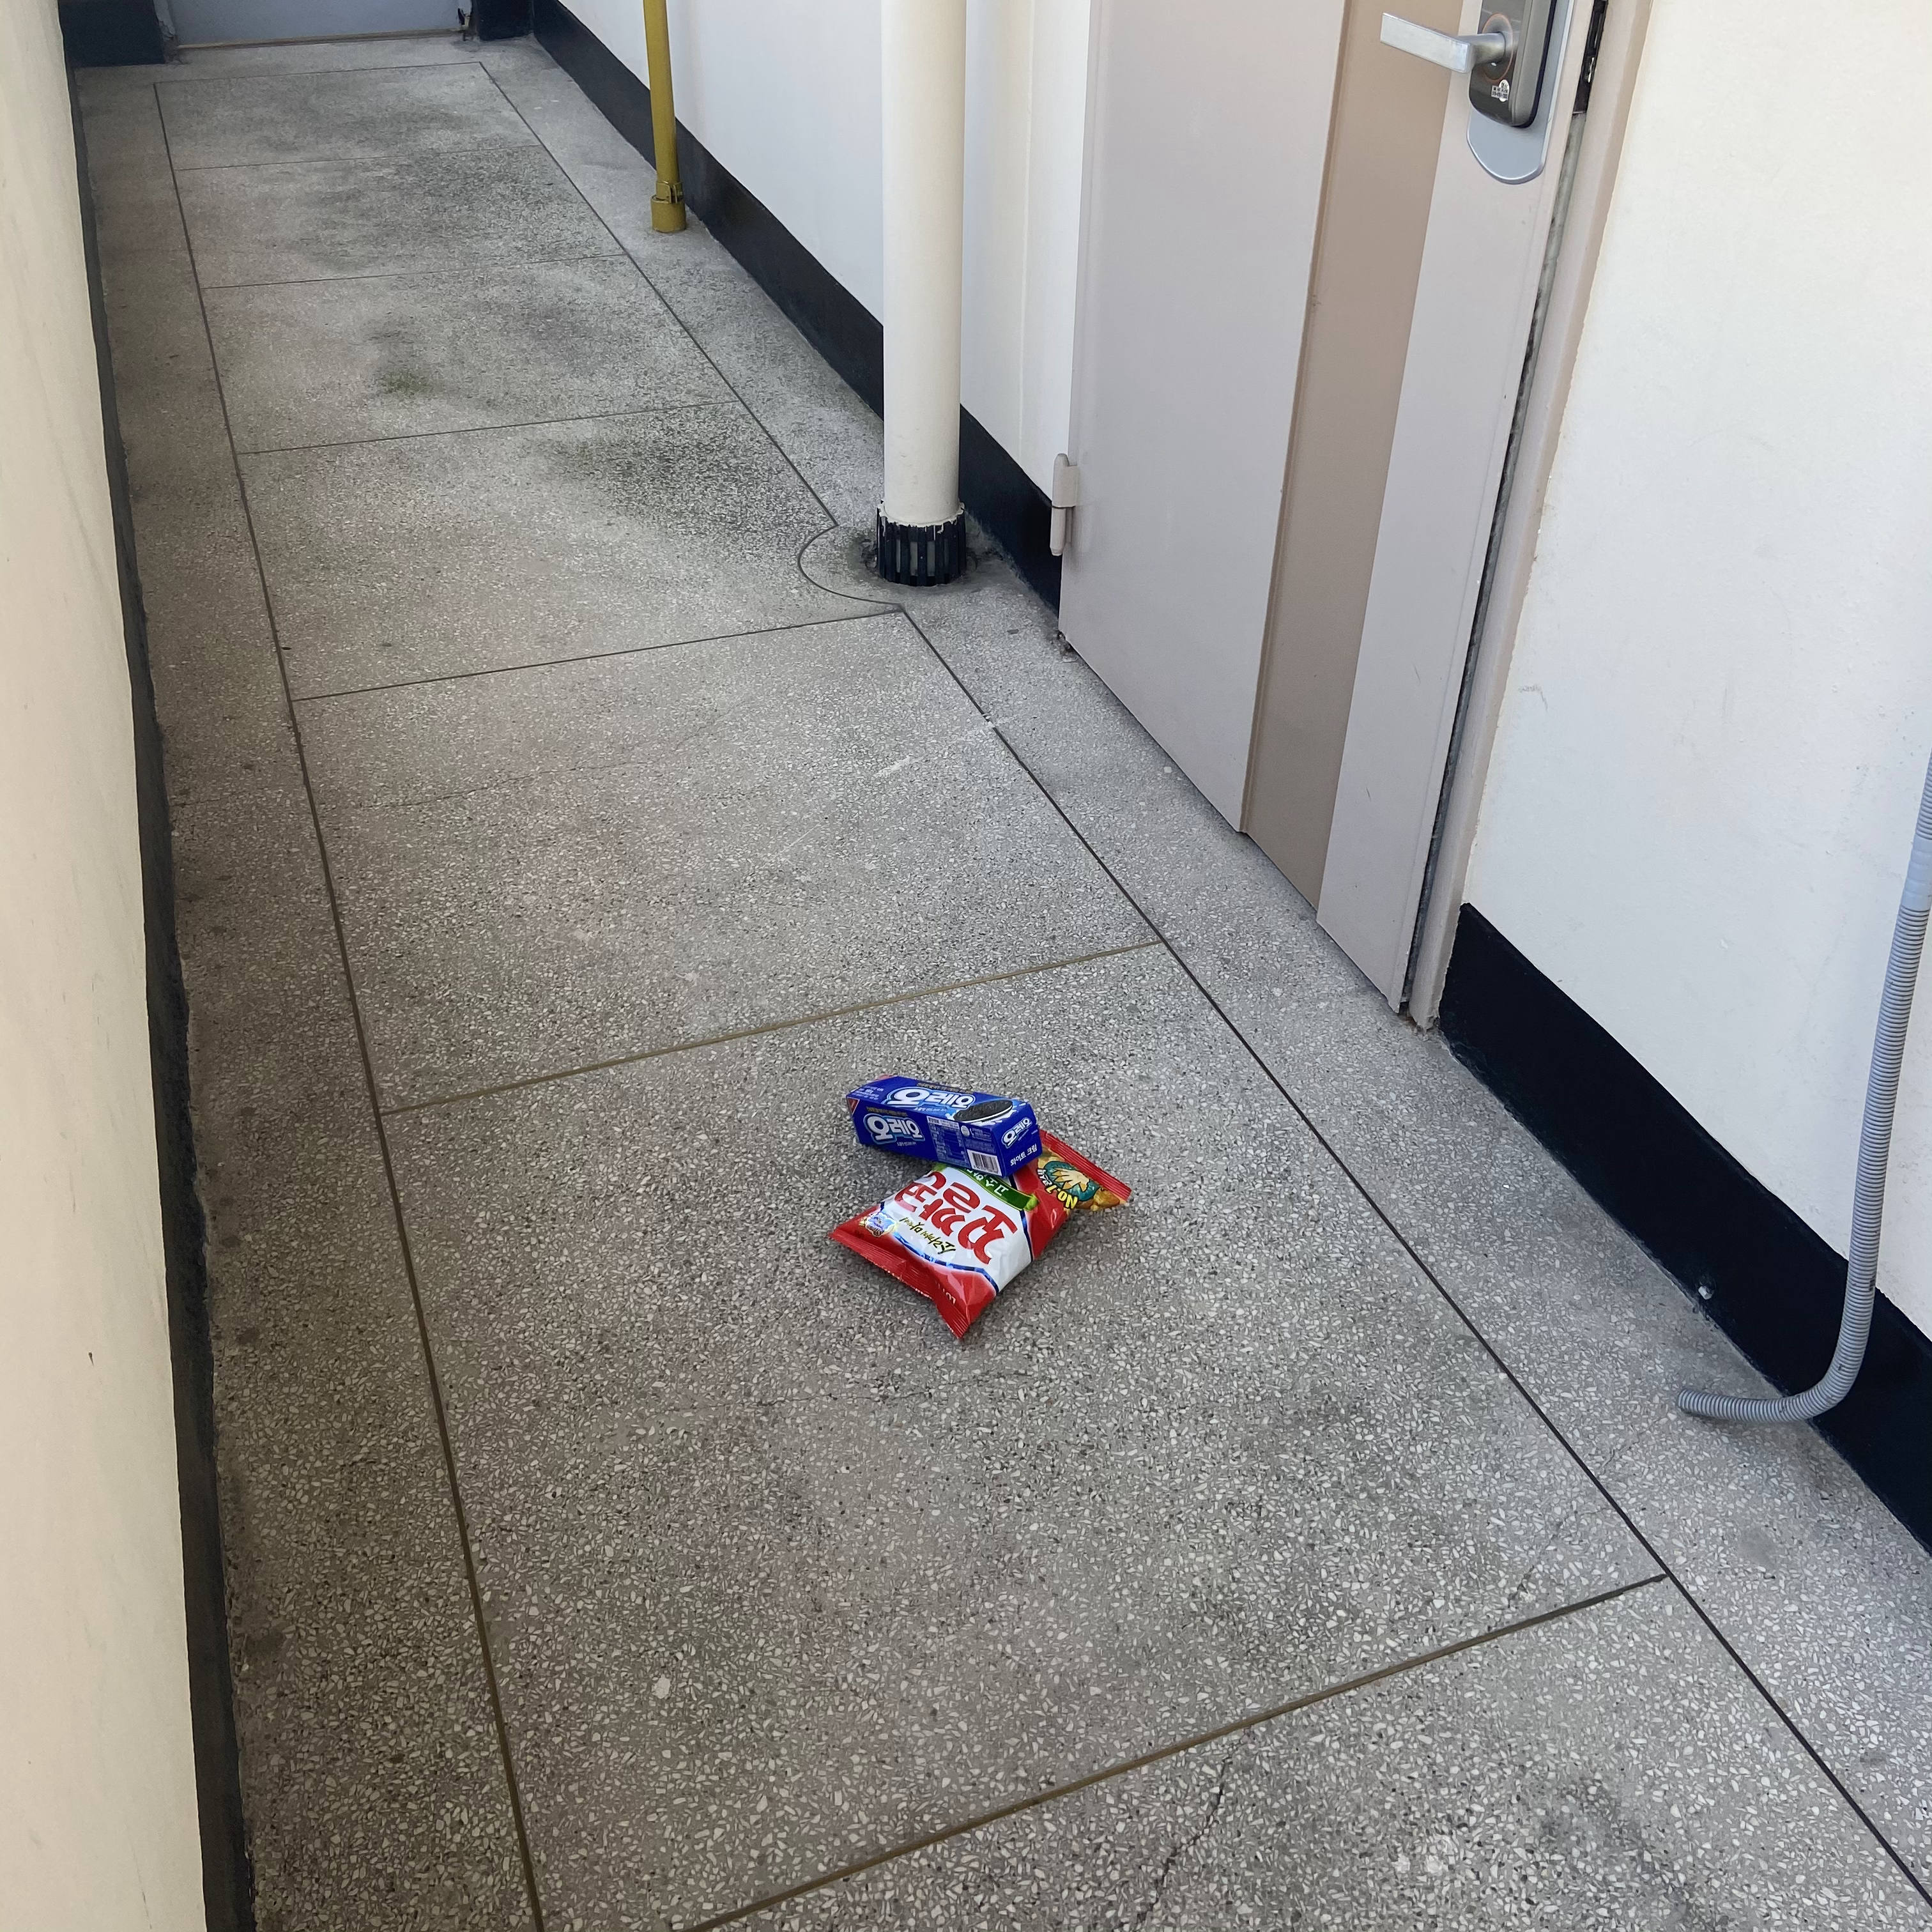ggoggalcon: (812, 1127, 1138, 1362)
oreo: (837, 1067, 1056, 1189)
